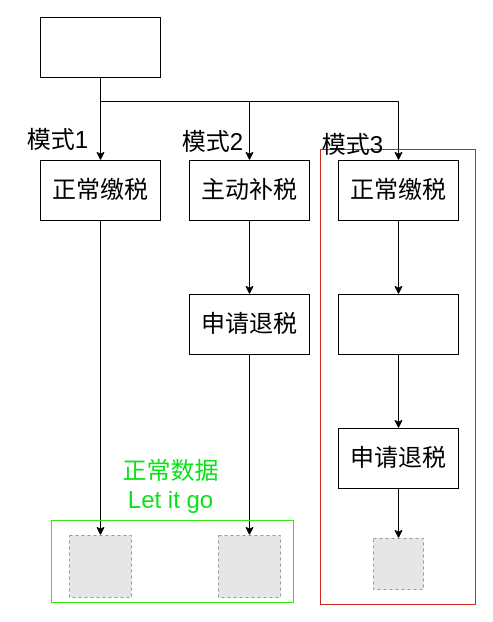
This 493x622 diagram has some shape labels left out. Grey dashed boxes stand in for pictures. The shapes that lost their labels are listed below. From the top down, each one's centre as x and y in pixels, then its label:
(100,47): 企业
(398,324): 多次修改
